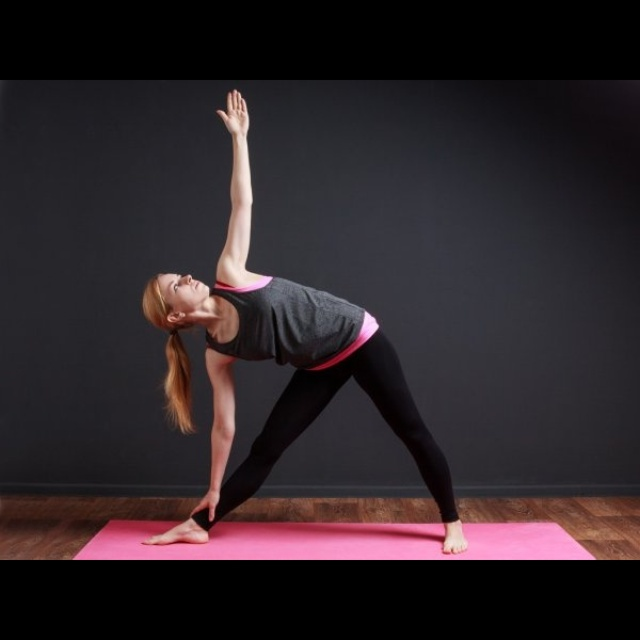Triangle_Pose: (126, 87, 473, 556)
